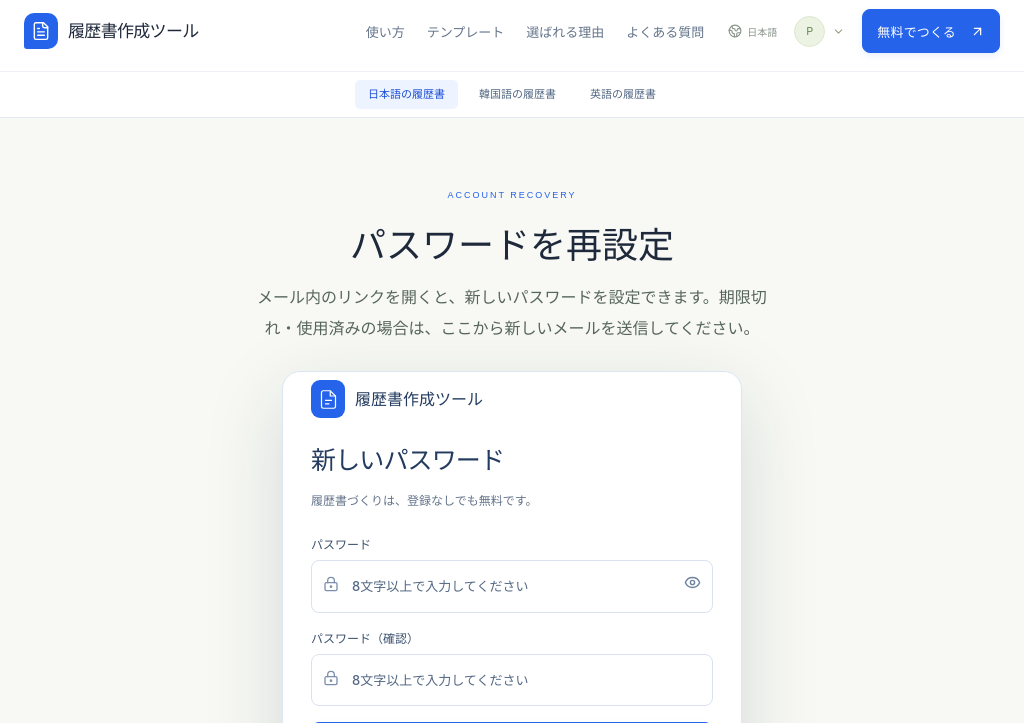
Test: dedicated password recovery › keeps the update form visible when saving fails
Type "test-password-123" into the password field labelled "パスワード".
click(512, 587); type("test-password-123")  # box [311,560,713,613]
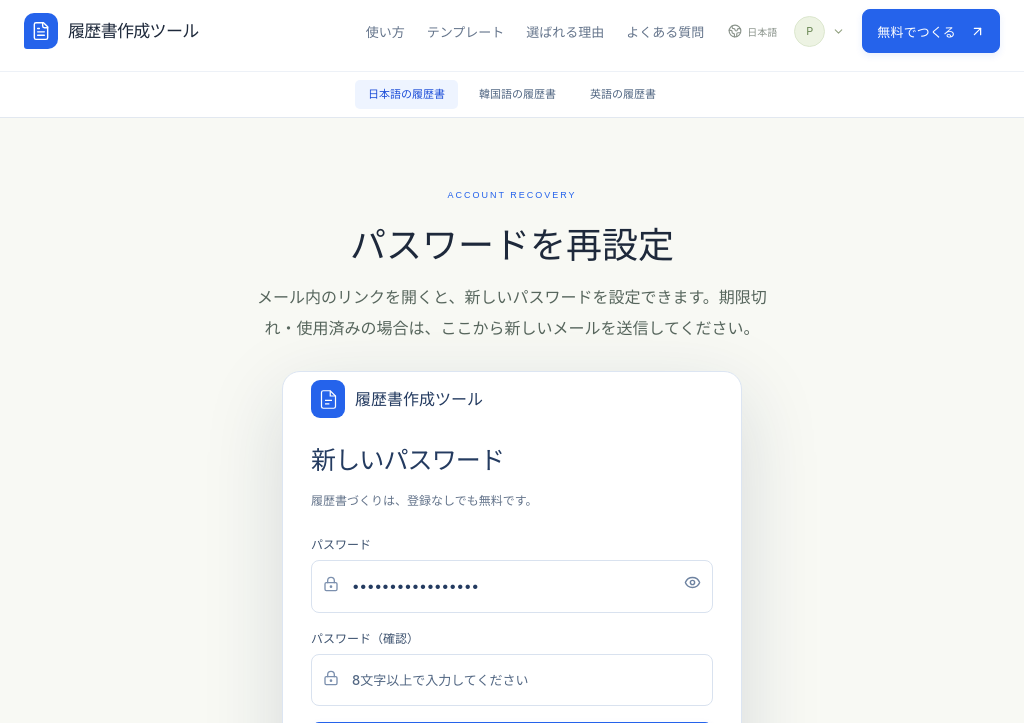
Type "test-password-123" into the password field labelled "パスワード（確認）".
click(512, 680); type("test-password-123")  # box [311,654,713,706]
(page scrolled)
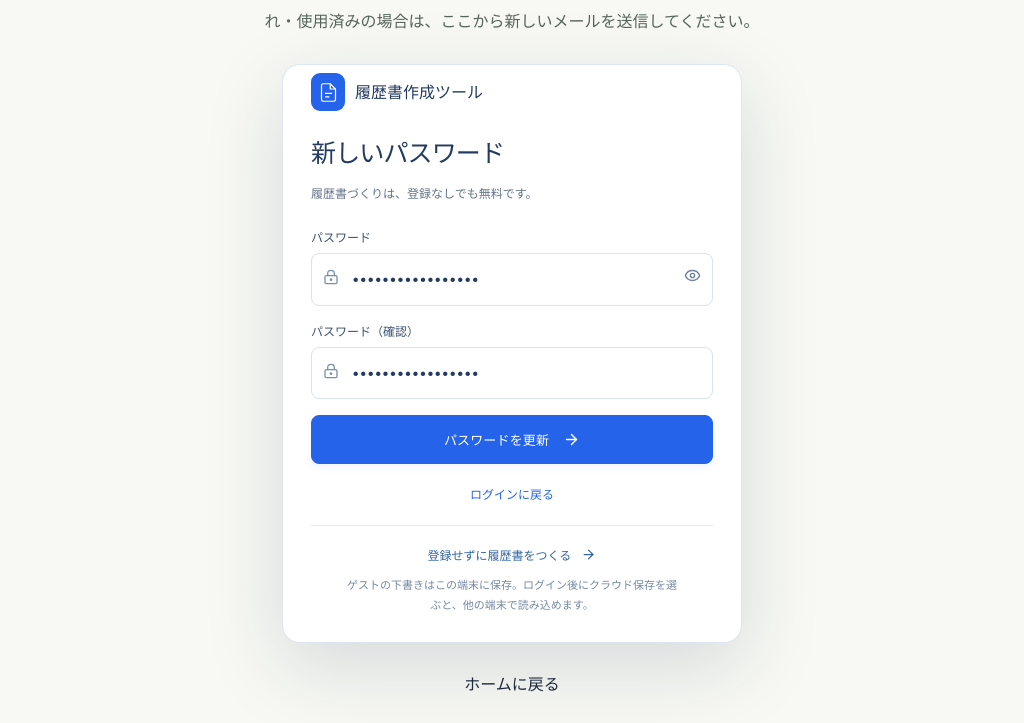
Click the button "パスワードを更新".
click(512, 440)  # box [311,416,713,464]
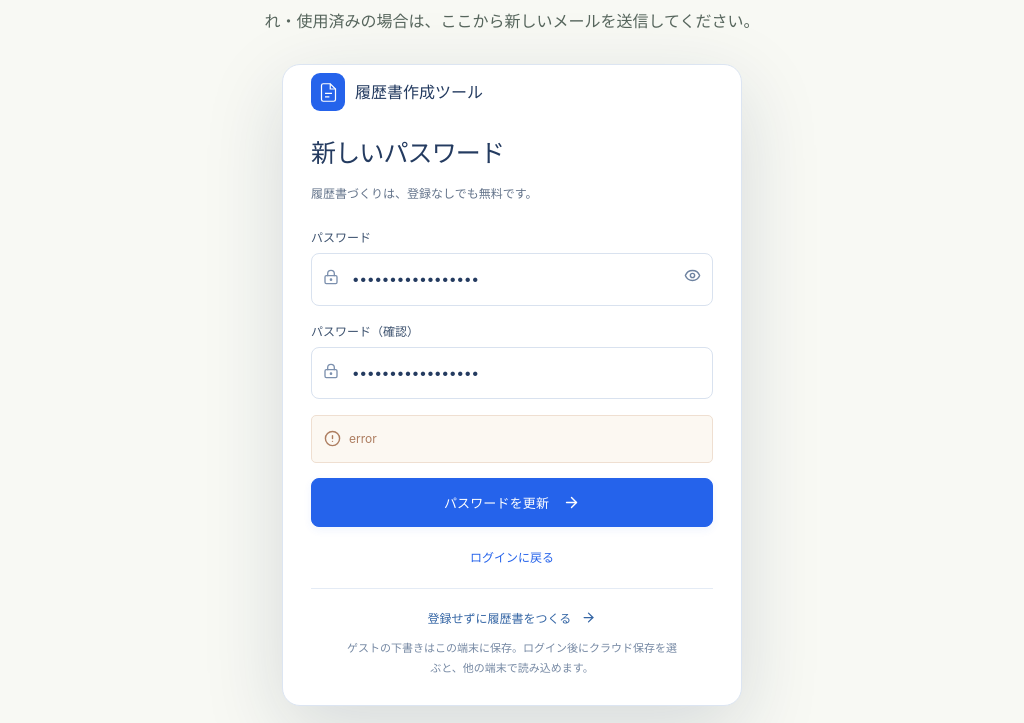
Expected: the button "パスワードを更新" is shown, [311,478,713,527]
Expected: the message "error" is shown, [311,416,713,463]
